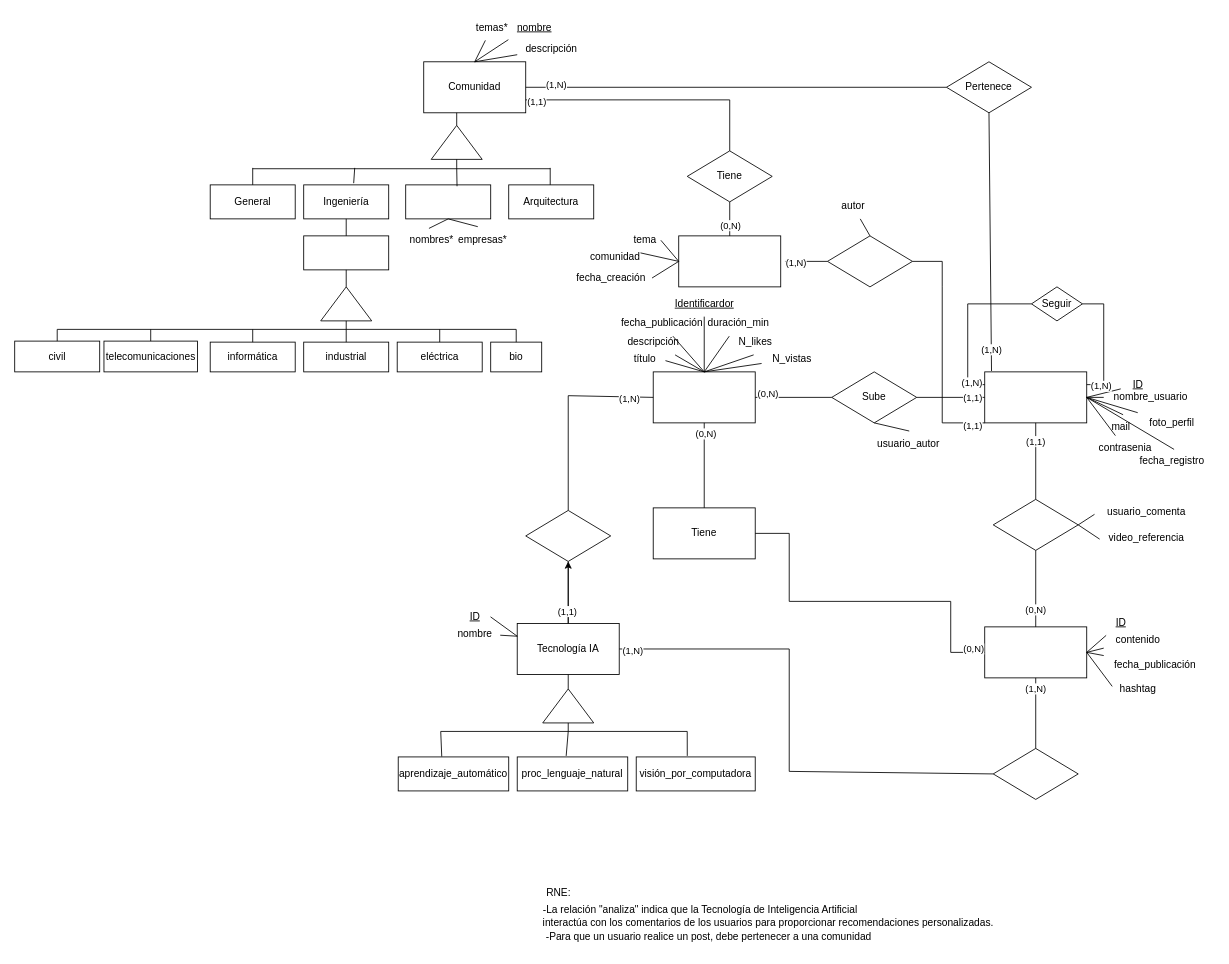
Some shapes in this 1229 by 964 pixel diagram are drawn without their labels. The shapes that lost their labels are listed below. From the top down, each one's centre as x and y in pixels, then its label:
At point 448,201: "Juegos".
At point 346,252: "Subtipo".
At point 729,261: "Post".
At point 869,261: "Crea".
At point 703,397: "Video".
At point 1035,397: "Usuario".
At point 568,535: "Asocia".
At point 1035,524: "Publica".
At point 1035,652: "Comentario".
At point 1035,773: "Analiza".
